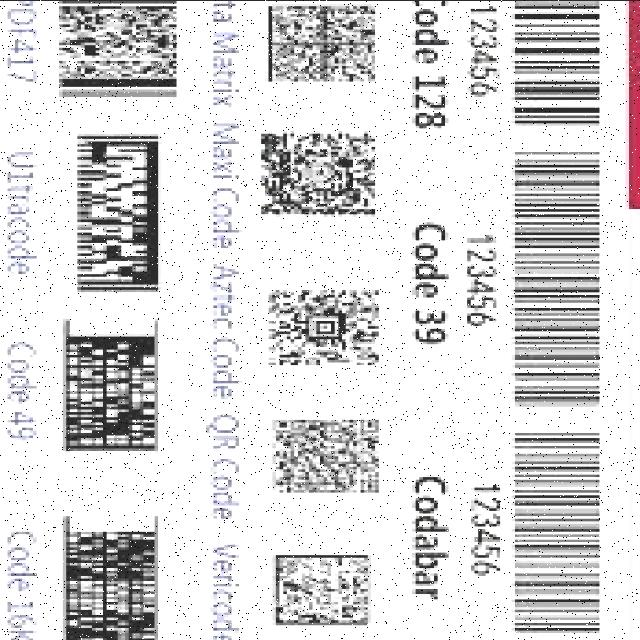datamatrix: (261, 0, 386, 86)
